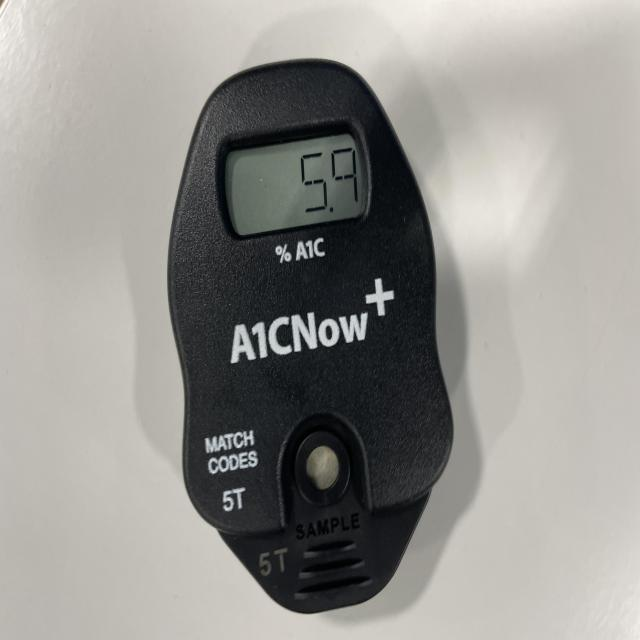hba1c: (165, 59, 455, 617)
